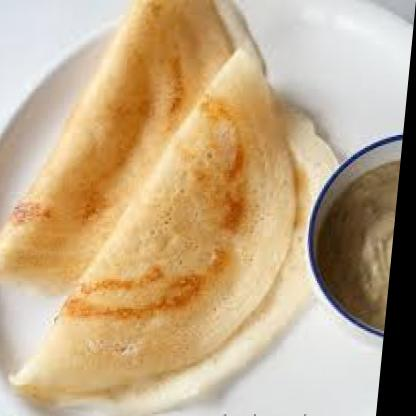dosa: (13, 47, 352, 416), (0, 0, 272, 292)
